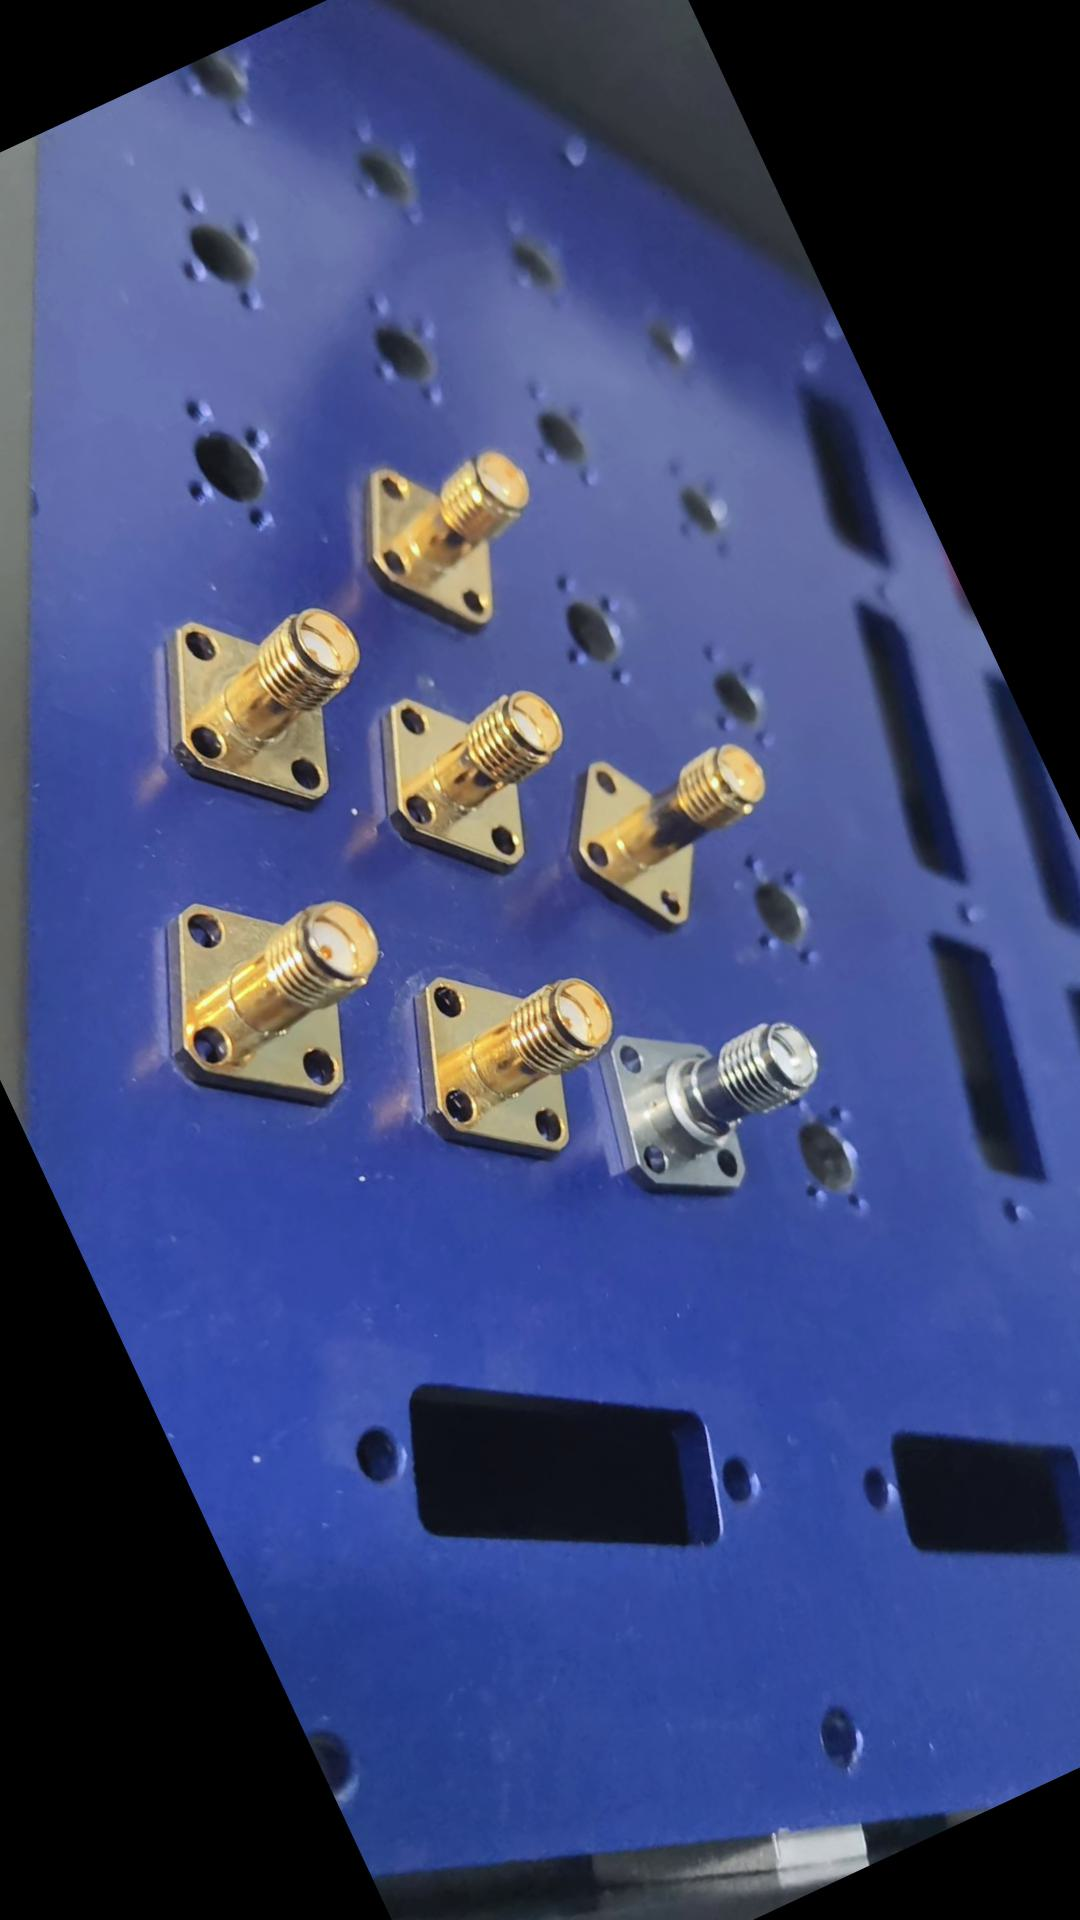SMA: (116, 837, 431, 1153), (127, 558, 411, 855), (568, 945, 862, 1230), (381, 913, 655, 1189), (340, 632, 608, 903), (545, 688, 807, 948), (338, 405, 582, 659)
